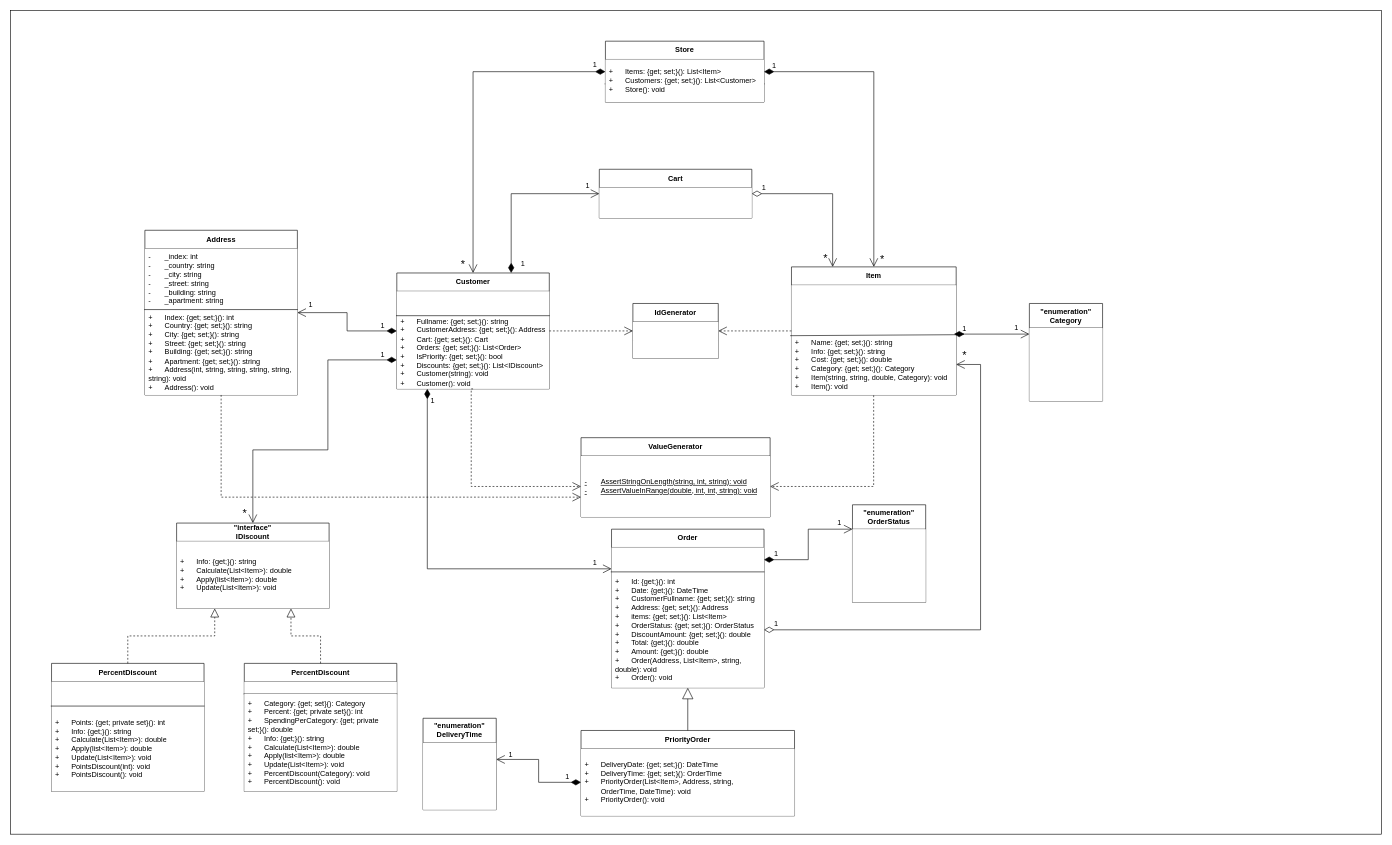
This 1392x845 diagram has some shape labels left out. Here are the shapes that lost their labels. From the top down, the centre of each, then its label:
point 675,202: + Items: {get; set;}(): List<Item> + Amount: {get;}(): double + Cart(): void
point 472,303: - _id: readonly int - _fullname: string
point 873,309: - _id: readonly int - _name: string - _info: string - _cost: double
point 675,330: - _nextId: int
point 675,349: - GetNextId(): int
point 1065,364: Medicine Clothing Products Technique Chancellery Books Groceries
point 687,559: - _id: int - _data: DateTime
point 888,565: New Processing Assembly Sent Delivered Returned Abandoned
point 127,693: - _points: int - _maxDiscountPercentage: const int
point 320,687: - _percent: int
point 459,775: f9t11 f11t13 f13t15 f15t17 f17t19 f19t21
